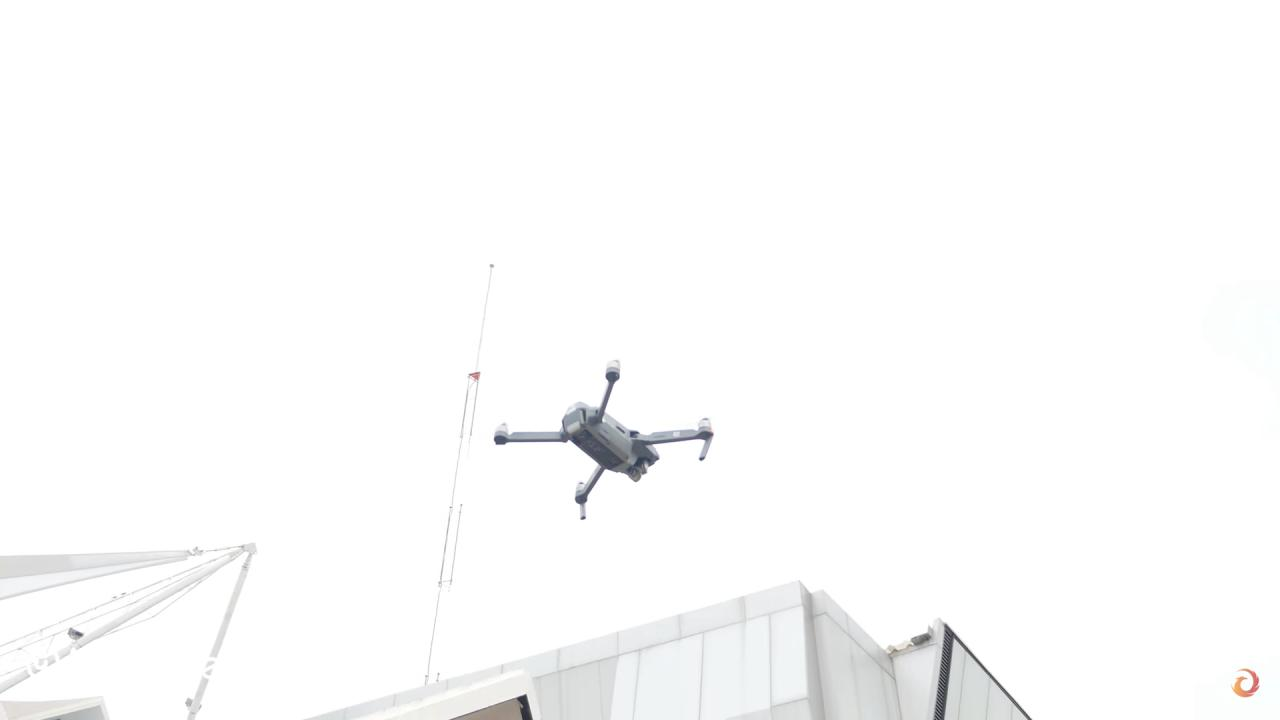Drone: (479, 349, 721, 528)
